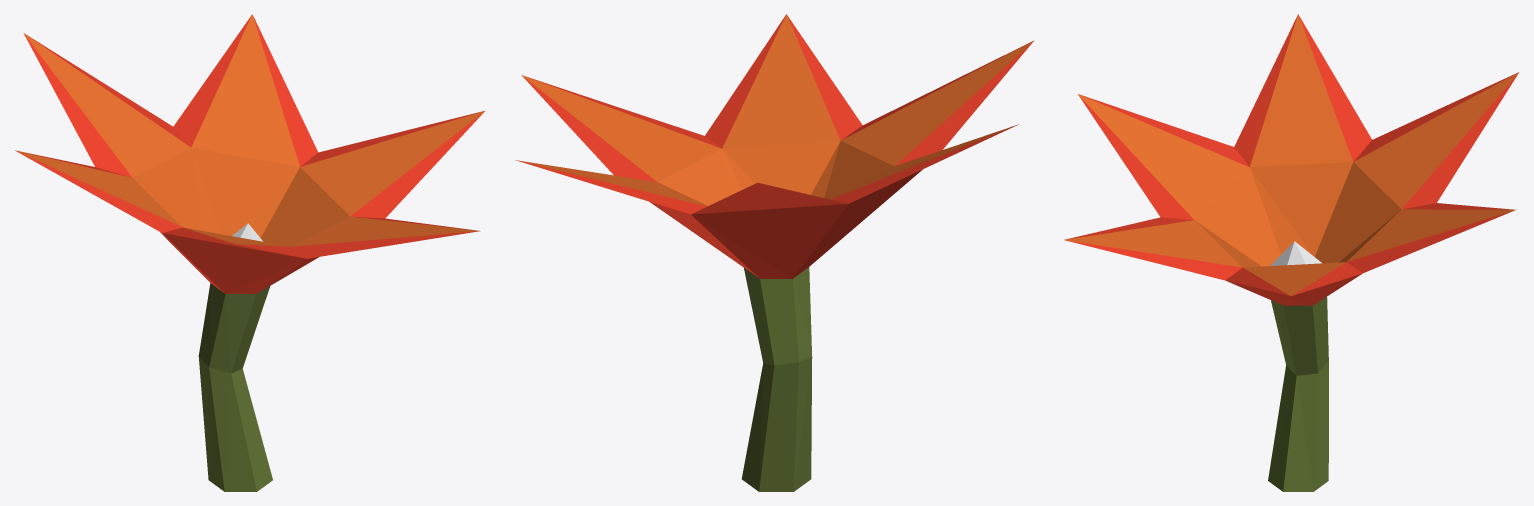
File: Flower00.fbx
3 views of the same model, side by side, from view 1: azimuth 30°, elevation 25°; view 2: azimuth 150°, elevation 25°; view 3: azimuth 270°, elevation 25° (orthographic). The views are drawn at different scales.
Visible parts, largest first — view 1: Flower00; view 2: Flower00; view 3: Flower00.
Boxes of the visible parts, x1,y1,x2,y2 form: Flower00: (15, 14, 485, 491); Flower00: (515, 14, 1034, 491); Flower00: (1064, 14, 1519, 491).
Size of the model in its own units: 69.03 by 54.4 by 61.97.
